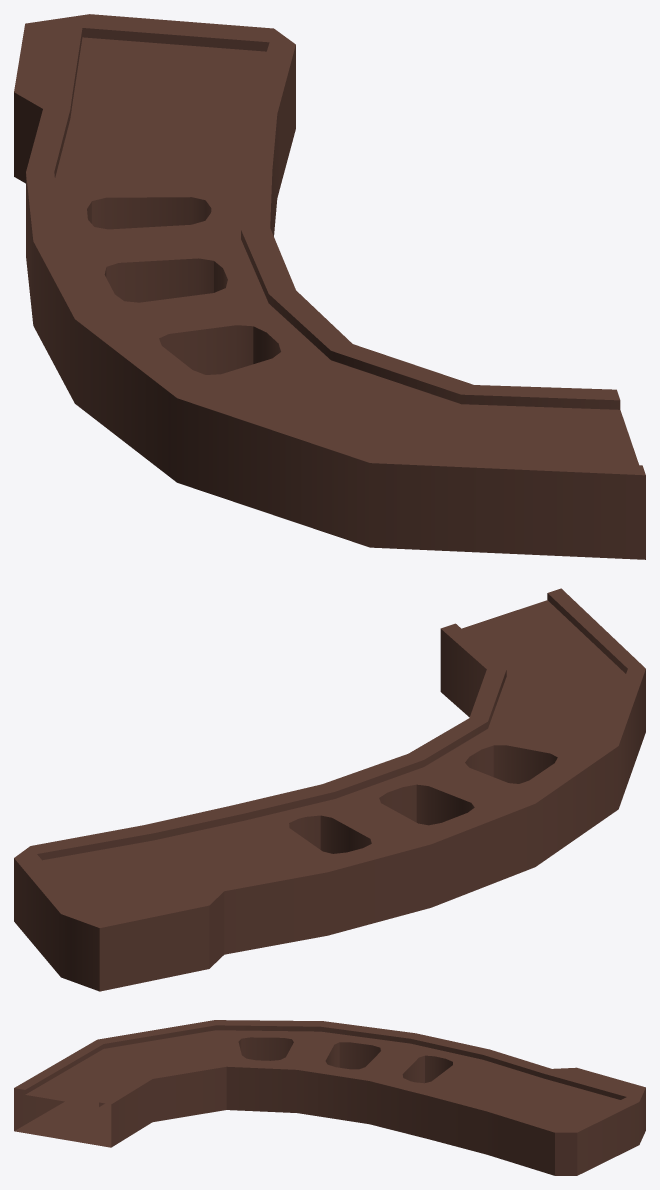
Rendered from Horseshoe.glb.
The picture shows the model from 3 angles, top to bottom: view 1: azimuth 30°, elevation 25°; view 2: azimuth 150°, elevation 25°; view 3: azimuth 270°, elevation 25°; orthographic projection. The views are drawn at different scales.
Parts seen in each view (by area): view 1: Horseshoe; view 2: Horseshoe; view 3: Horseshoe.
Part boxes in pixels (bbox=[...]): Horseshoe: bbox=[14, 14, 645, 559]; Horseshoe: bbox=[14, 588, 645, 991]; Horseshoe: bbox=[14, 1020, 645, 1175].
Bounding box in the file's own units: 0.2728 × 0.0488 × 0.6466.
